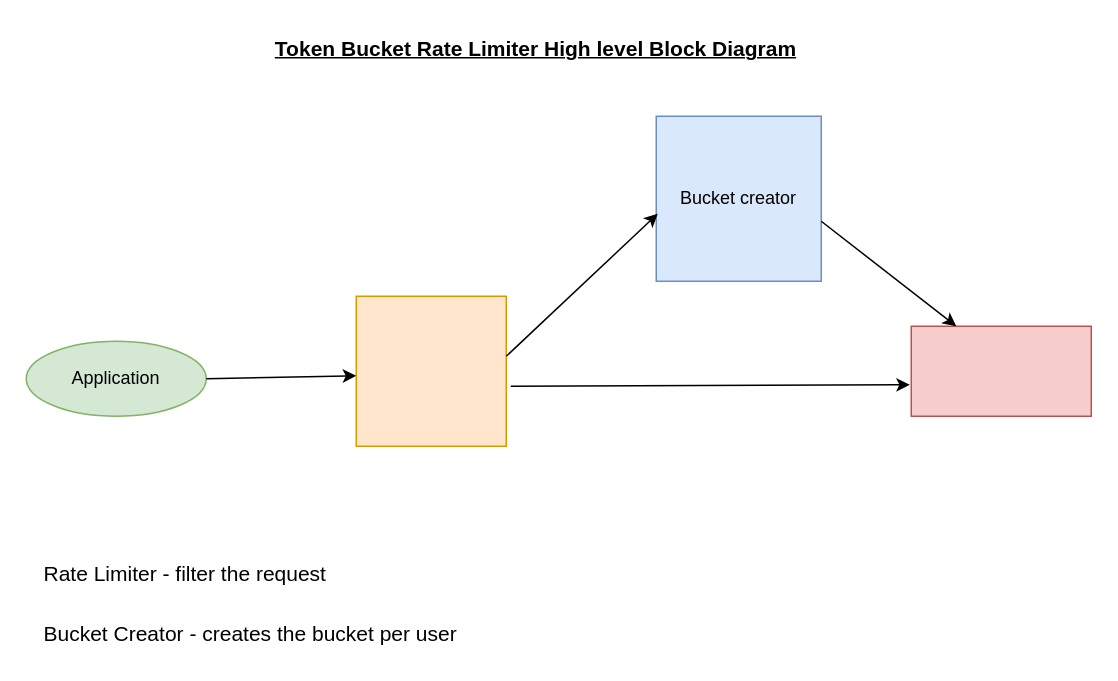
This 1118x681 diagram has some shape labels left out. The shapes that lost their labels are listed below. From the top down, each one's centre as x and y in pixels, then its label:
At [430,370]: "Bucket Cache".
At [1000,370]: "Rate Limiter".
